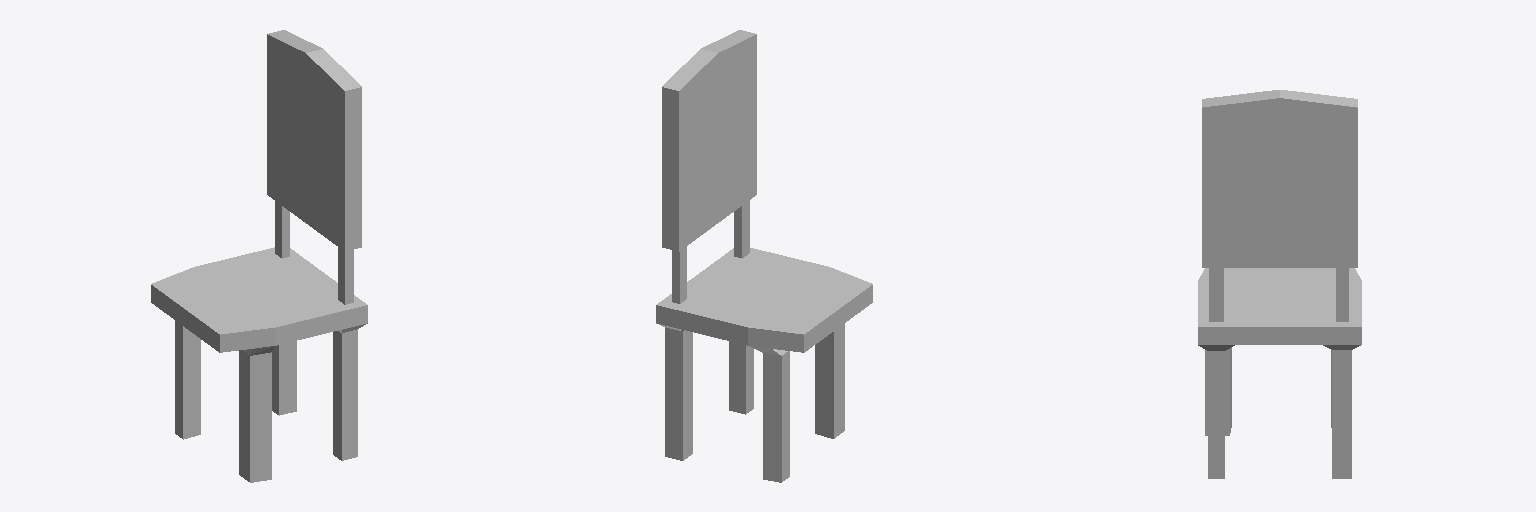
The model's file is chair.obj.
3 views of the same model, side by side, from view 1: azimuth 30°, elevation 25°; view 2: azimuth 150°, elevation 25°; view 3: azimuth 270°, elevation 25° (orthographic).
Visible parts, largest first — view 1: Cube; view 2: Cube; view 3: Cube.
Part boxes in pixels (x1,y1,x2,y2): Cube: (151, 30, 367, 482); Cube: (656, 30, 872, 482); Cube: (1198, 90, 1361, 478).
Size of the model in its own units: 1.74 by 4.49 by 1.76.